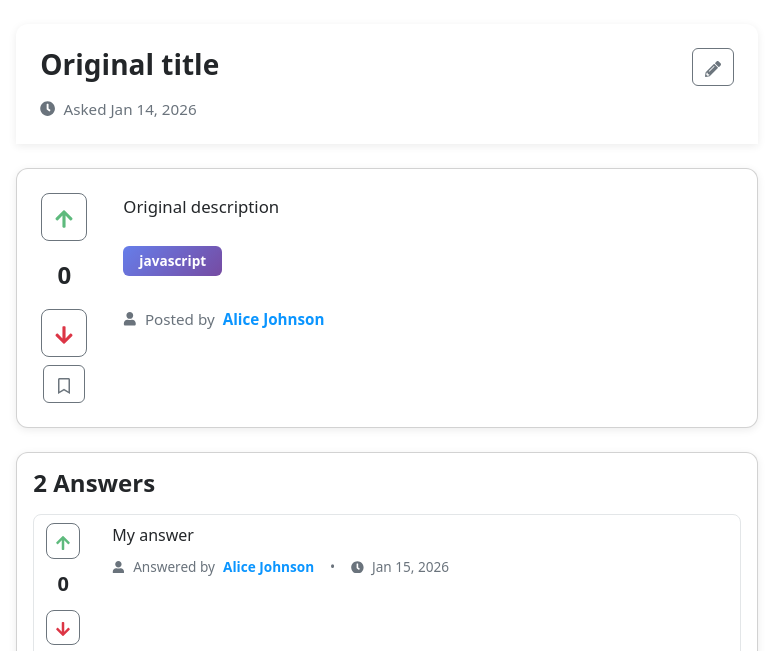
Scenario: Edit Posts Integration Tests (Redux + rendered QuestionDetail) › disables Save (and Cancel) while the update request is in flight
The width and height of the screenshot is (775, 651).
Expected: the heading "Original title" is shown, [40, 48, 219, 82]
Click the button named "edit" in the row of "Original title" at (713, 67), box [692, 48, 734, 86]
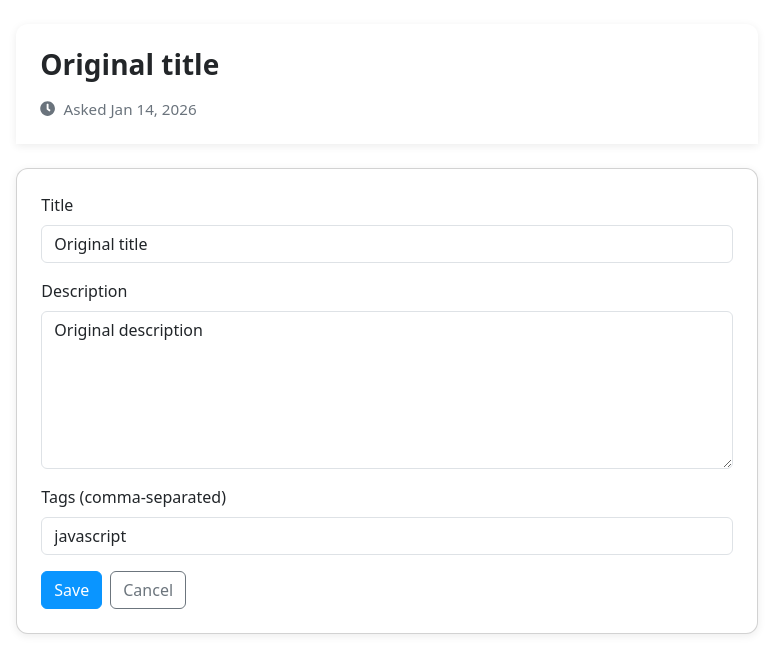
Click the button "Save" at (72, 590), box [41, 571, 102, 609]
(page scrolled)
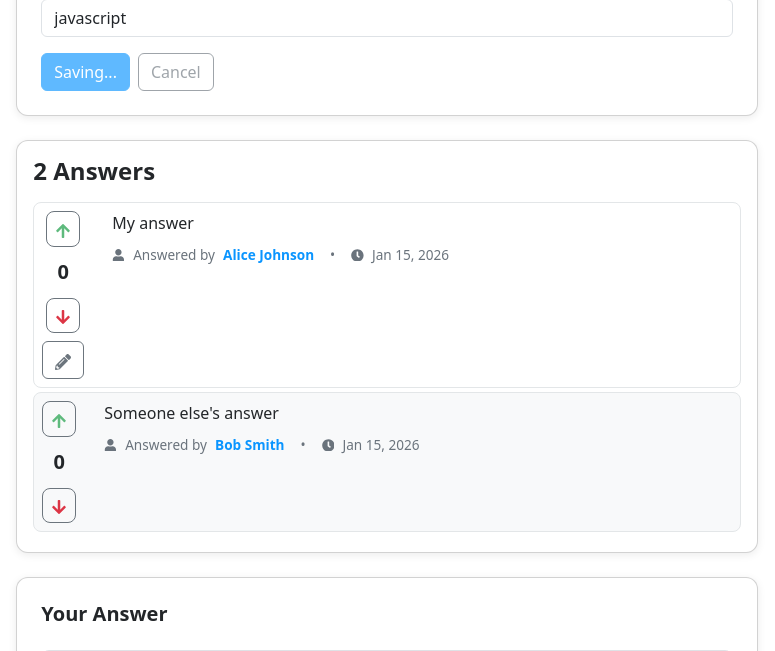
Expected: the button named "edit" is shown, [42, 341, 84, 379]
Now the button "Saving..." is disabled, box [41, 53, 130, 91]
Now the button "Cancel" is disabled, box [138, 53, 214, 91]
